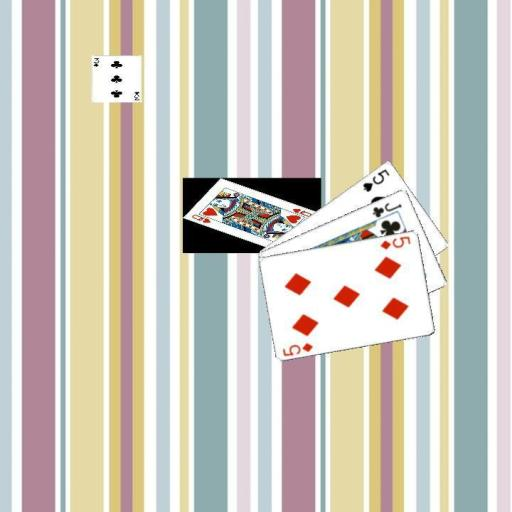card-corner: (359, 166, 391, 193), (370, 199, 403, 219), (279, 339, 315, 357), (378, 233, 412, 251)
